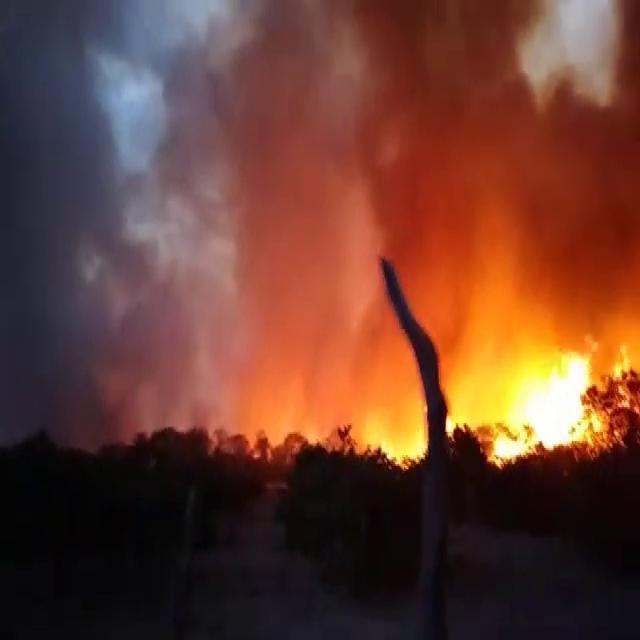Fire: (452, 329, 631, 462), (363, 394, 424, 464)
Smoke: (8, 9, 196, 440)
